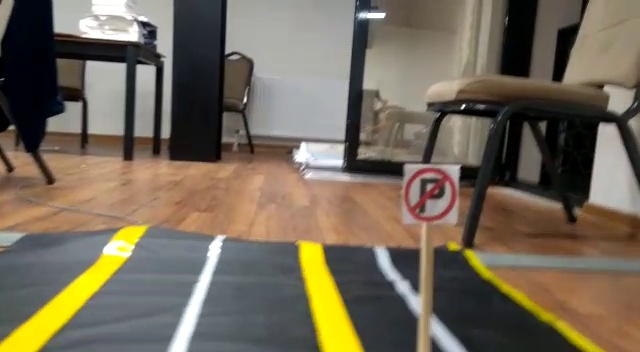park_yapilmaz: (403, 164, 461, 225)
